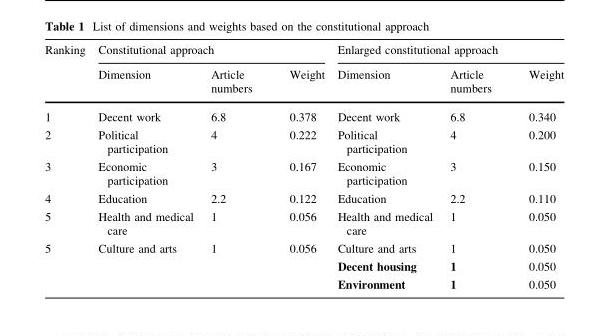table: (44, 44, 563, 290)
table column: (91, 44, 201, 290), (330, 44, 440, 290), (201, 44, 270, 290), (440, 44, 509, 290), (270, 44, 330, 290), (509, 44, 563, 290), (44, 44, 91, 290)
table column header: (44, 44, 563, 102)
table row: (44, 62, 563, 102), (44, 157, 563, 189), (44, 207, 563, 239), (44, 126, 563, 157), (44, 102, 563, 126), (44, 44, 563, 62), (44, 189, 563, 207), (44, 239, 563, 257), (44, 257, 563, 275), (44, 275, 563, 290)
table spanning cell: (91, 44, 330, 62), (330, 44, 563, 62), (44, 44, 91, 102), (44, 239, 91, 290)
